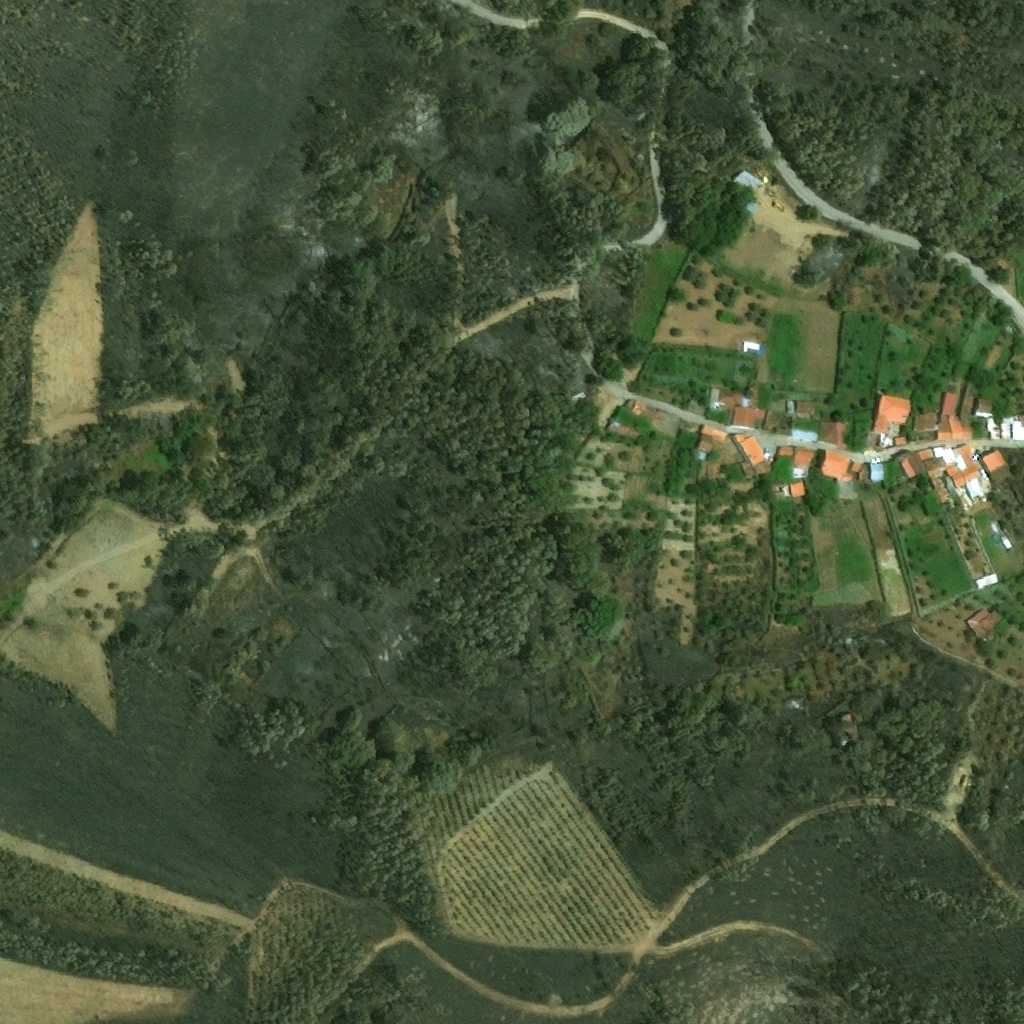0 no-damage: (958, 443, 988, 500), (873, 394, 913, 433), (690, 424, 728, 464), (966, 608, 1005, 641), (733, 431, 767, 466), (820, 449, 854, 480), (731, 166, 763, 196), (733, 404, 765, 428), (945, 463, 969, 491), (818, 421, 847, 444), (900, 451, 923, 479), (949, 416, 974, 441), (913, 405, 938, 429), (763, 410, 789, 431), (989, 461, 1013, 483), (795, 448, 817, 467), (717, 388, 737, 408), (925, 458, 946, 477), (941, 391, 956, 415), (869, 462, 886, 483), (851, 461, 868, 482), (976, 398, 994, 417), (739, 460, 756, 478), (941, 474, 957, 493), (1001, 416, 1014, 439), (742, 342, 764, 355), (626, 401, 645, 416), (1011, 420, 1023, 439), (757, 461, 772, 476), (795, 401, 811, 415), (709, 388, 719, 409), (742, 202, 756, 215), (778, 446, 794, 457), (919, 448, 933, 460), (893, 437, 908, 447), (938, 432, 951, 441)
3 destroyed: (579, 419, 596, 436)
4 un-classified: (971, 508, 987, 520)
